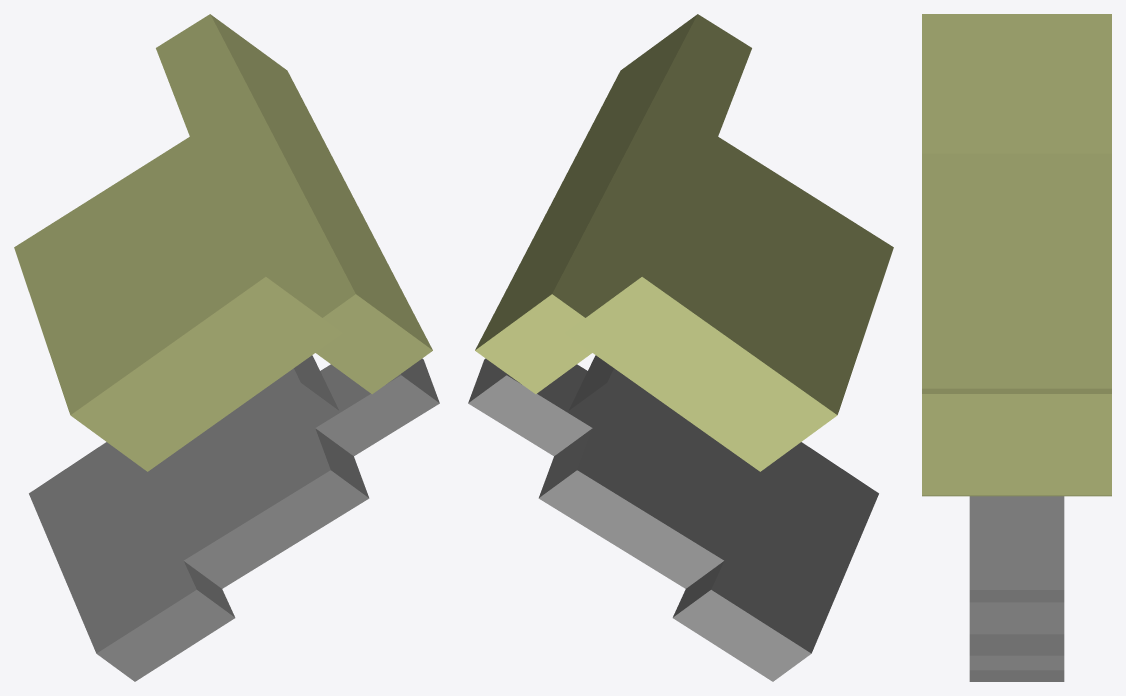
3 renders of one model, left to right at view 1: azimuth 30°, elevation 25°; view 2: azimuth 150°, elevation 25°; view 3: azimuth 270°, elevation 25°, orthographic. The views are drawn at different scales.
Visible parts, largest first — view 1: 0_1_0_2_0_2_0_0_3_0; view 2: 0_1_0_2_0_2_0_0_3_0; view 3: 0_1_0_2_0_2_0_0_3_0.
Part boxes in pixels (box(x1,y1,x2,y2)): 0_1_0_2_0_2_0_0_3_0: box(14, 14, 439, 681); 0_1_0_2_0_2_0_0_3_0: box(468, 14, 893, 681); 0_1_0_2_0_2_0_0_3_0: box(922, 14, 1111, 681).
Size of the model in its own units: 16.7 by 25.4 by 6.
